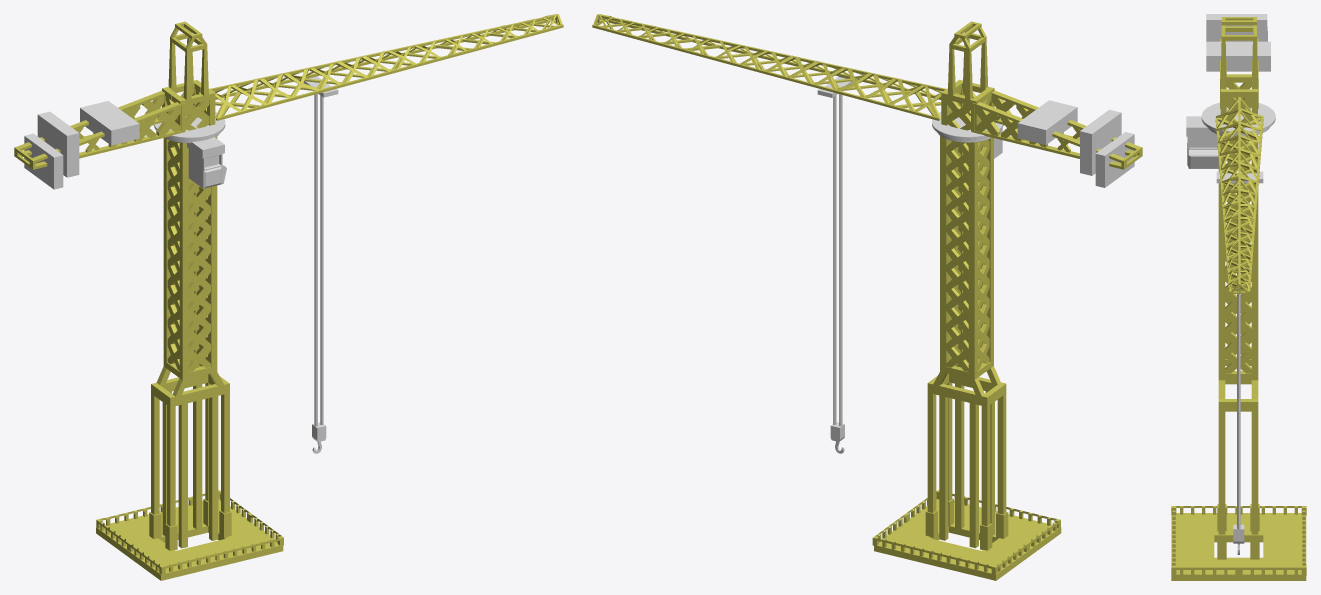
File: Hijskraan.fbx
3 renders of one model, left to right at view 1: azimuth 30°, elevation 25°; view 2: azimuth 150°, elevation 25°; view 3: azimuth 270°, elevation 25°, orthographic. The views are drawn at different scales.
Parts seen in each view (by area): view 1: Crane.001, Top.001, Base platform.001, Wire.001, Platform borders.001, Cockpit.001; view 2: Crane.001, Top.001, Base platform.001, Wire.001, Platform borders.001; view 3: Top.001, Crane.001, Base platform.001, Platform borders.001, Cockpit.001, Wire.001, Wireholder.001, Hook.001.
Boxes of the visible parts, x1,y1,x2,y2 form: Crane.001: (149,136,231,550); Top.001: (14,14,563,189); Base platform.001: (96,499,283,580); Wire.001: (314,94,323,426); Platform borders.001: (96,490,283,574); Cockpit.001: (187,137,226,188); Crane.001: (925,136,1008,550); Top.001: (592,14,1142,187); Base platform.001: (874,499,1061,580); Wire.001: (833,91,842,426); Platform borders.001: (872,490,1060,575); Top.001: (1201,14,1275,293); Crane.001: (1217,135,1259,559); Base platform.001: (1171,513,1306,580); Platform borders.001: (1171,506,1306,575); Cockpit.001: (1186,116,1218,168); Wire.001: (1237,184,1240,529); Wireholder.001: (1216,171,1263,183); Hook.001: (1233,524,1244,554).
Bounding box in the file's own units: 974 × 904 × 206.
